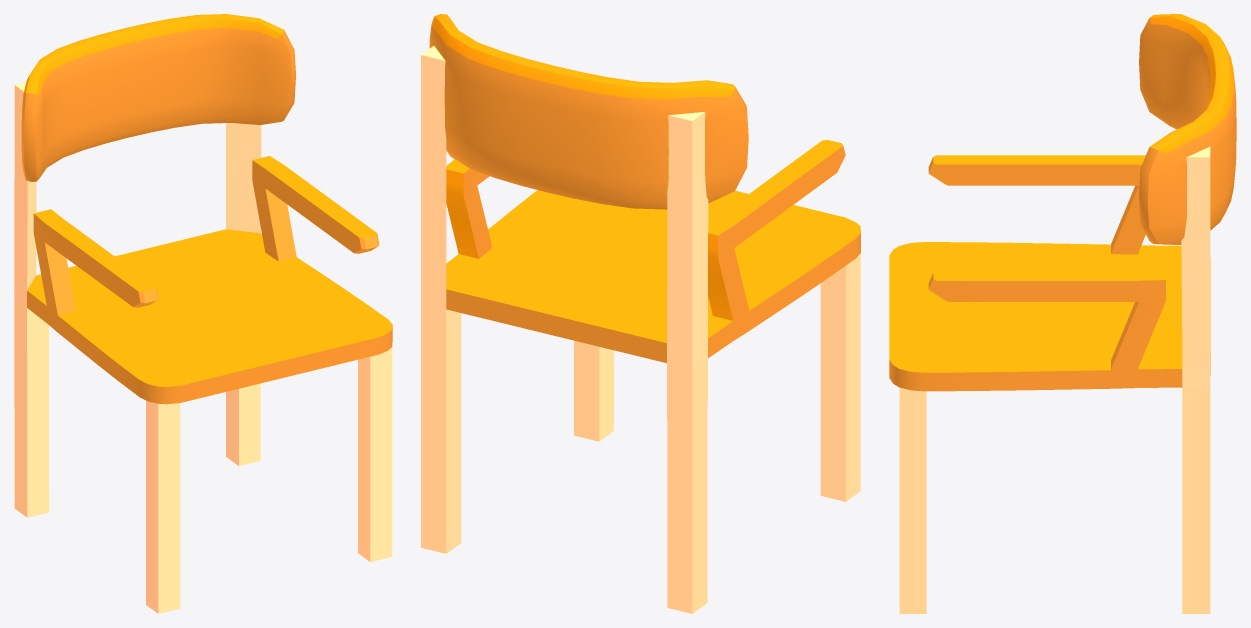
Rendered from Chair 2.fbx.
3 renders of one model, left to right at view 1: azimuth 30°, elevation 25°; view 2: azimuth 150°, elevation 25°; view 3: azimuth 270°, elevation 25°, orthographic. The views are drawn at different scales.
Parts seen in each view (by area): view 1: Chair 2; view 2: Chair 2; view 3: Chair 2.
Boxes of the visible parts, box(x1,y1,x2,y2) form: Chair 2: box(14, 14, 392, 613); Chair 2: box(421, 14, 860, 613); Chair 2: box(889, 14, 1236, 613).
Bounding box in the file's own units: 156 × 160 × 244.
